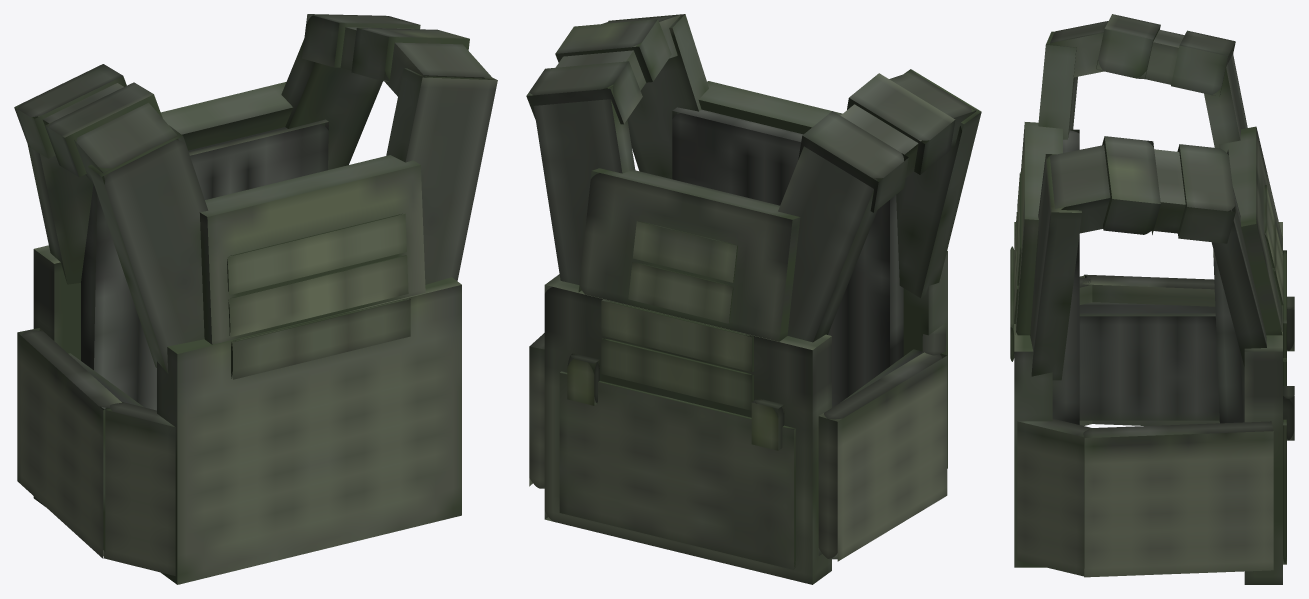
3 views of the same model, side by side, from view 1: azimuth 30°, elevation 25°; view 2: azimuth 150°, elevation 25°; view 3: azimuth 270°, elevation 25° (orthographic). The views are drawn at different scales.
Visible parts, largest first — view 1: cube; view 2: cube; view 3: cube.
Part boxes in pixels (left/top/right/bottom): cube: left=14, top=14, right=497, bottom=584; cube: left=526, top=14, right=981, bottom=584; cube: left=1010, top=14, right=1294, bottom=584.
Size of the model in its own units: 0.7121 by 0.7855 by 0.4625.
